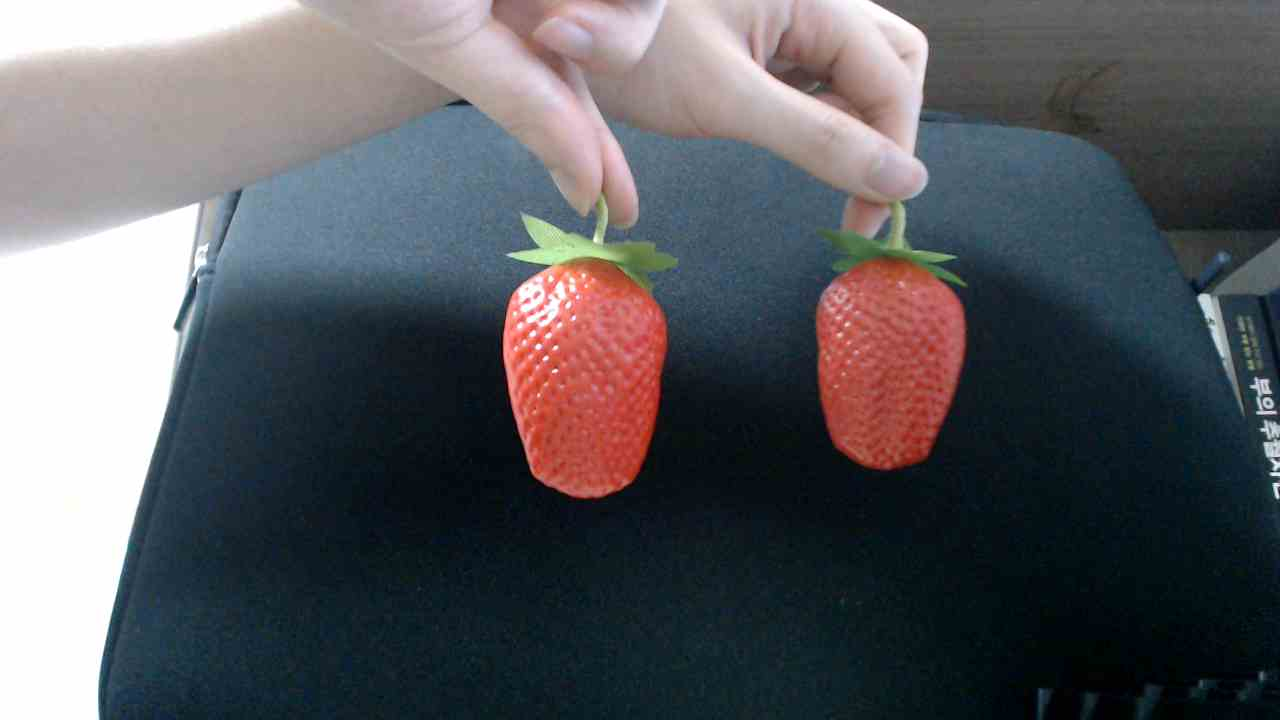strawberry: (494, 231, 674, 508), (800, 234, 967, 469)
